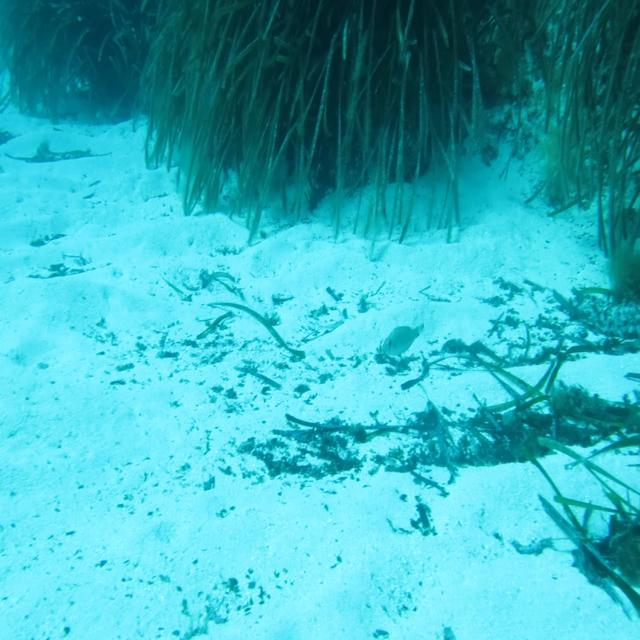AM: (382, 322, 424, 362)
vegetation: (118, 0, 510, 231), (512, 0, 640, 277), (450, 368, 640, 460), (378, 340, 387, 362)
